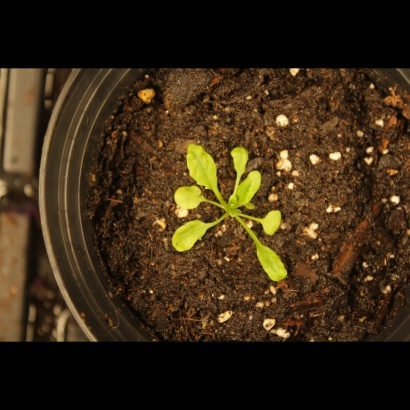leaf: (249, 238, 290, 287), (184, 138, 221, 192), (171, 213, 210, 256), (233, 168, 267, 209), (171, 185, 205, 217), (226, 145, 252, 177), (258, 209, 287, 237)
